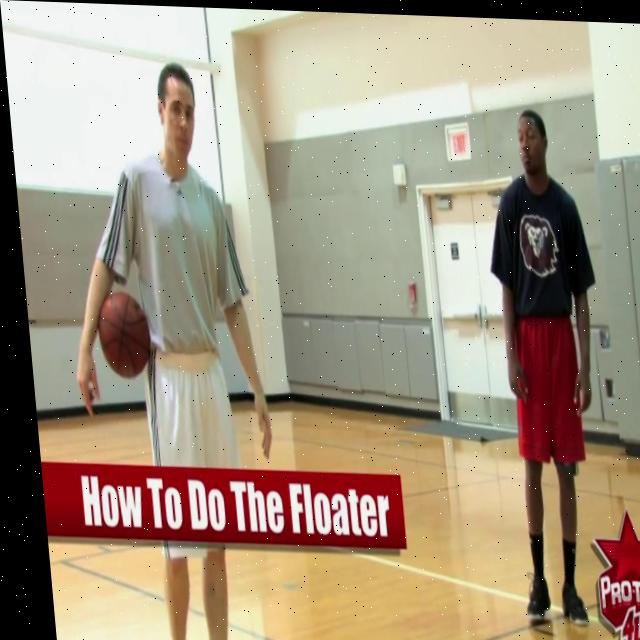basketball: (96, 291, 154, 379)
